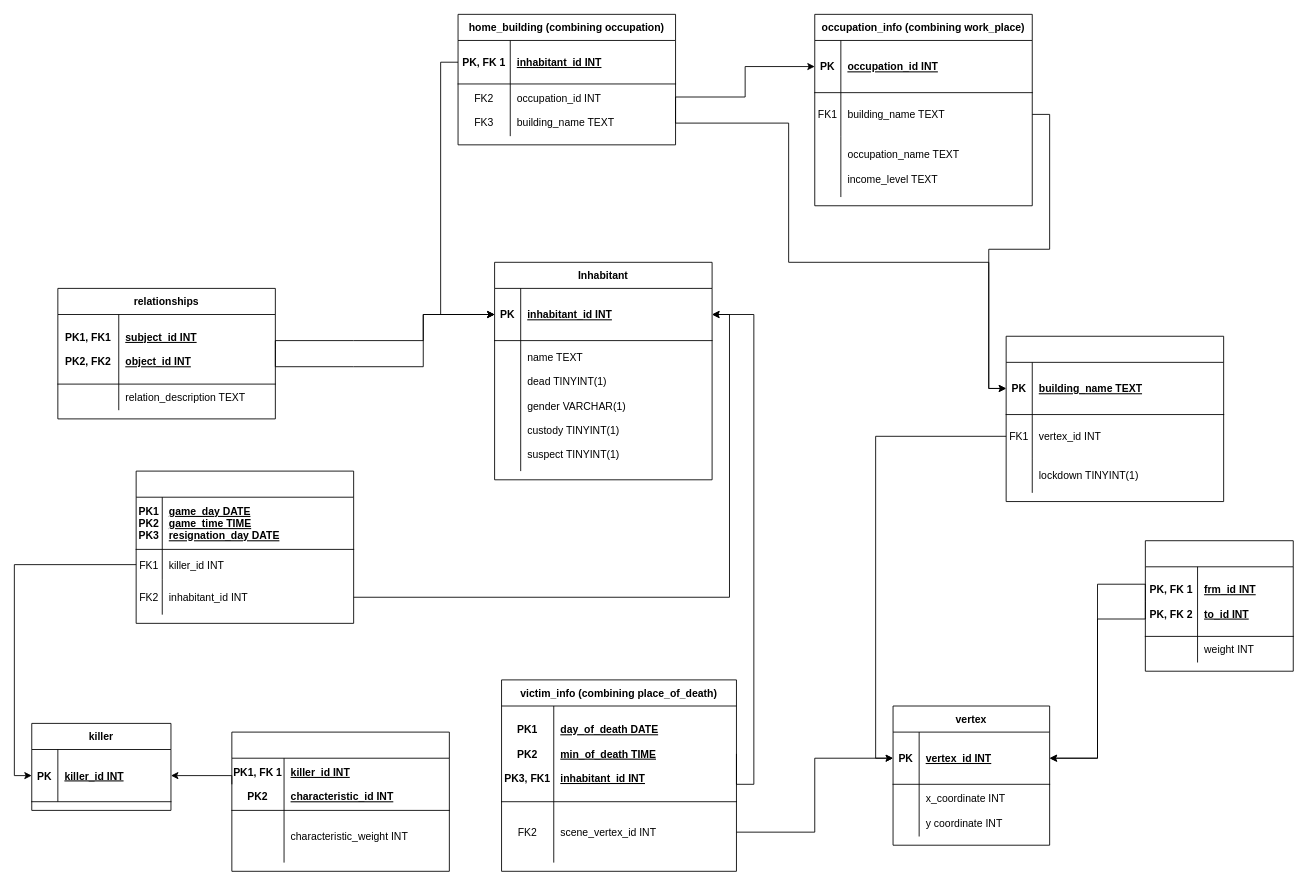
Some shapes in this 1308 by 886 pixel diagram are drawn without their labels. The shapes that lost their labels are listed below. From the top down, each one's box as (x1, y1, x2, y2) in pixels, then its label:
(1005, 335, 1224, 502): building (combining location_of_building)
(135, 470, 354, 623): status (combining killer_pick)
(1144, 540, 1293, 671): edge
(231, 731, 449, 871): characteristics
